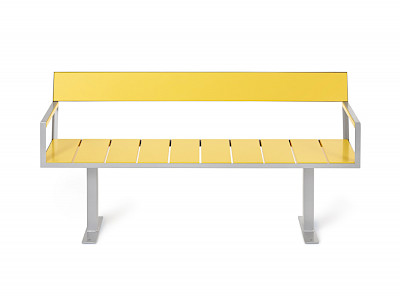Chair: (34, 63, 366, 251)
